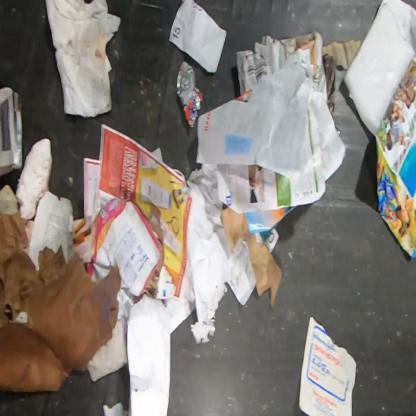cardboard: (0, 211, 64, 327), (0, 86, 23, 180)
metal: (176, 60, 203, 130)
